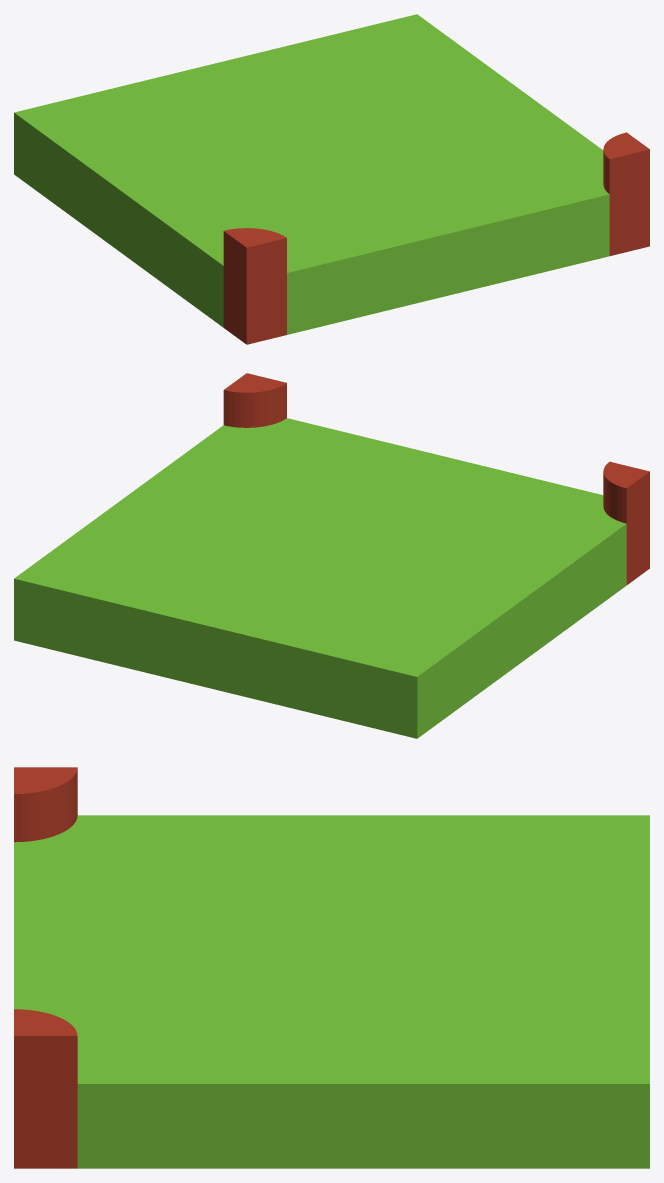
The model's file is Walls_To_Open.FBX.
3 views of the same model, one above another, from view 1: azimuth 30°, elevation 25°; view 2: azimuth 150°, elevation 25°; view 3: azimuth 270°, elevation 25° (orthographic). The views are drawn at different scales.
Parts seen in each view (by area): view 1: Walls_to_open_01, Walls; view 2: Walls_to_open_01, Walls; view 3: Walls_to_open_01, Walls.
Boxes of the visible parts, x1,y1,x2,y2 form: Walls_to_open_01: [14, 14, 609, 334]; Walls: [223, 132, 649, 344]; Walls_to_open_01: [14, 418, 626, 738]; Walls: [223, 373, 649, 584]; Walls_to_open_01: [14, 815, 649, 1168]; Walls: [14, 767, 77, 1168].
Size of the model in its own units: 0.9999 by 0.9999 by 0.23.
